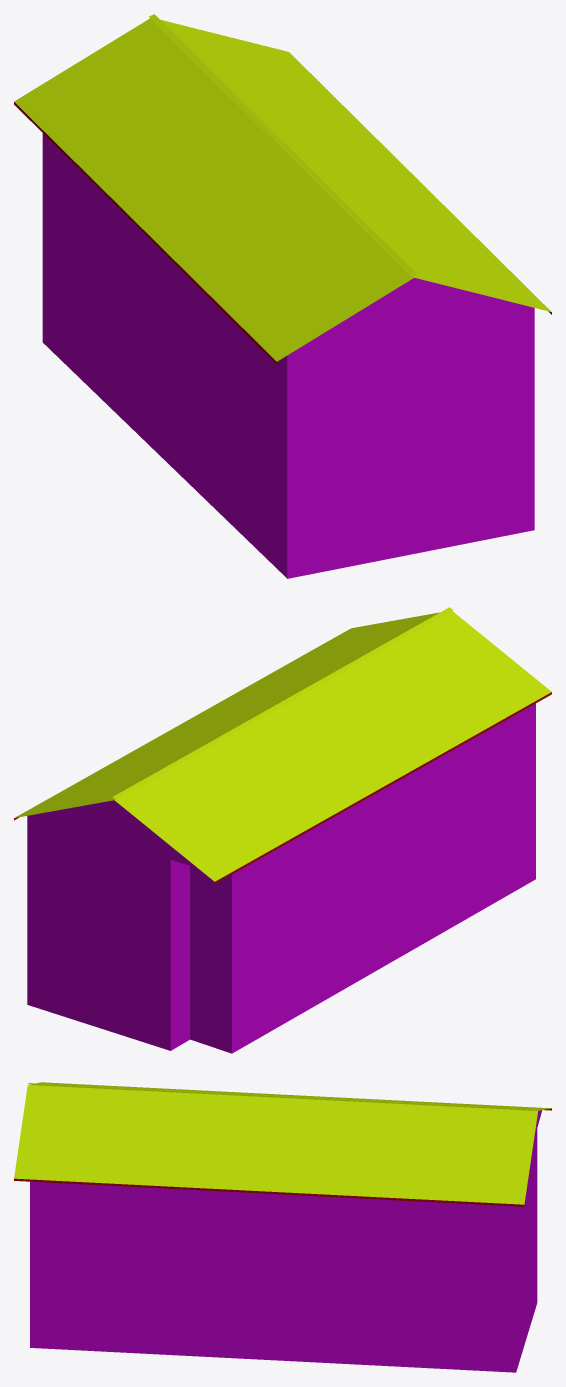
File: bgj_396.glb
The picture shows the model from 3 angles, top to bottom: view 1: azimuth 30°, elevation 25°; view 2: azimuth 150°, elevation 25°; view 3: azimuth 270°, elevation 25°; orthographic projection. The views are drawn at different scales.
Visible parts, largest first — view 1: bgj_396; view 2: bgj_396; view 3: bgj_396.
Boxes of the visible parts, x1,y1,x2,y2 form: bgj_396: (14, 14, 551, 578); bgj_396: (14, 607, 551, 1053); bgj_396: (14, 1082, 551, 1372).
Size of the model in its own units: 14.26 by 11.93 by 26.49.
